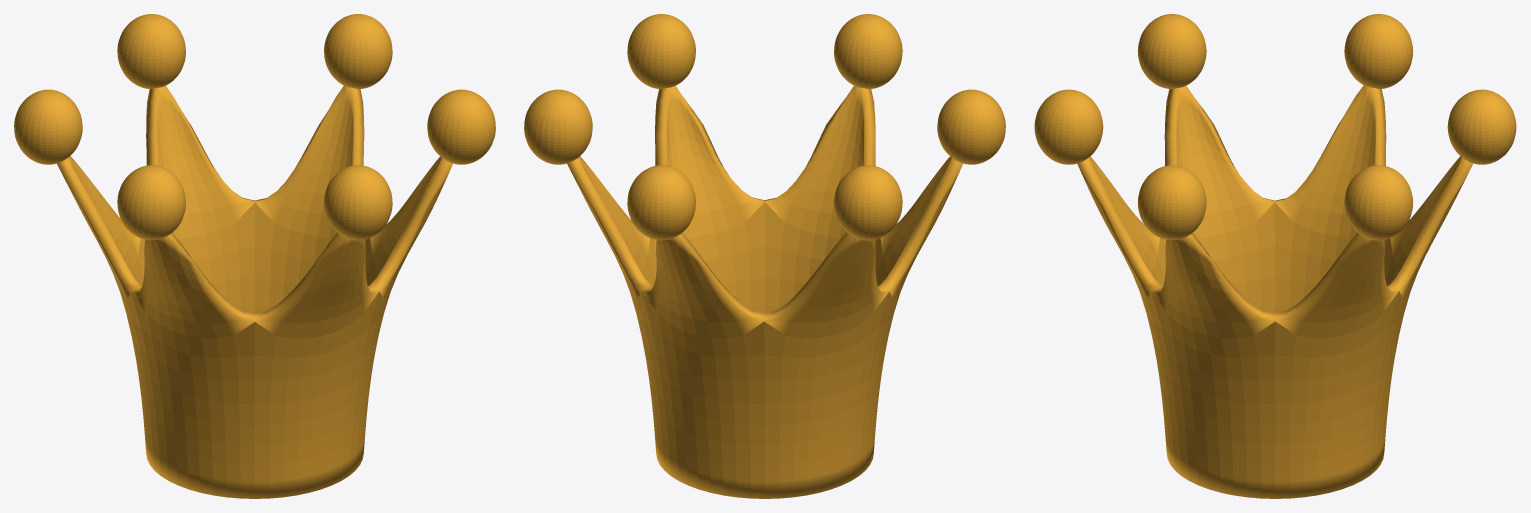
File: crown.fbx
3 renders of one model, left to right at view 1: azimuth 30°, elevation 25°; view 2: azimuth 150°, elevation 25°; view 3: azimuth 270°, elevation 25°, orthographic.
Visible parts, largest first — view 1: crown; view 2: crown; view 3: crown.
Boxes of the visible parts, x1,y1,x2,y2 form: crown: [14, 14, 495, 498]; crown: [524, 14, 1005, 498]; crown: [1034, 14, 1516, 498].
Size of the model in its own units: 164 by 153 by 185.
